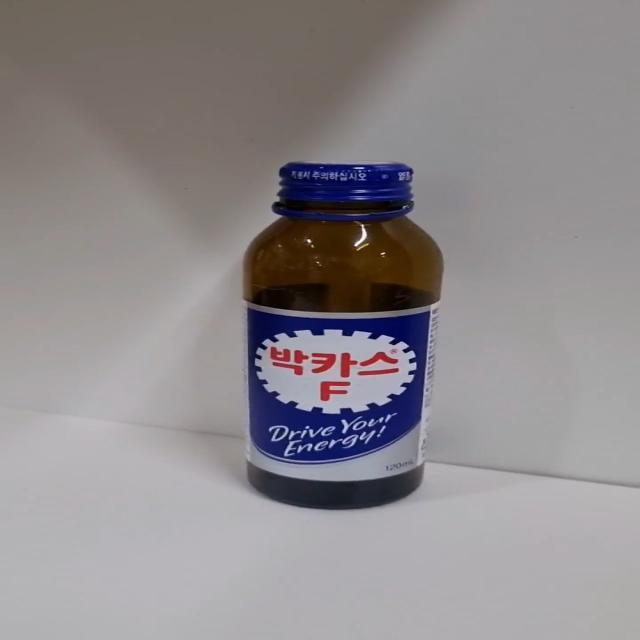Glass: (239, 162, 445, 512)
